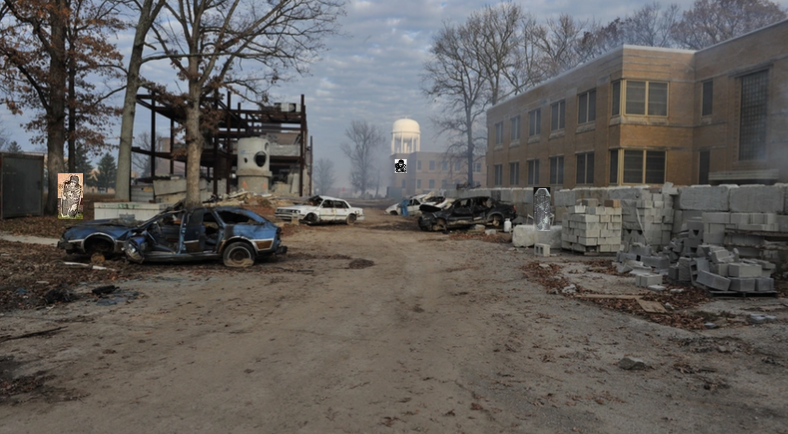HVT1: (62, 174, 81, 218), (533, 187, 550, 230), (395, 159, 406, 173)
